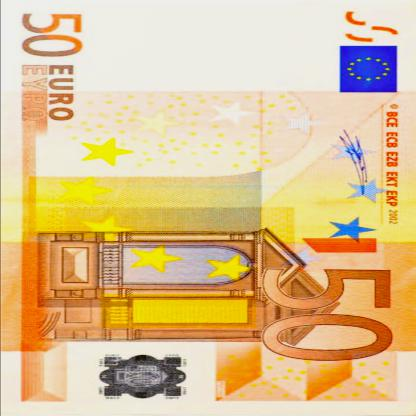euro_banknote: (3, 4, 416, 416)
